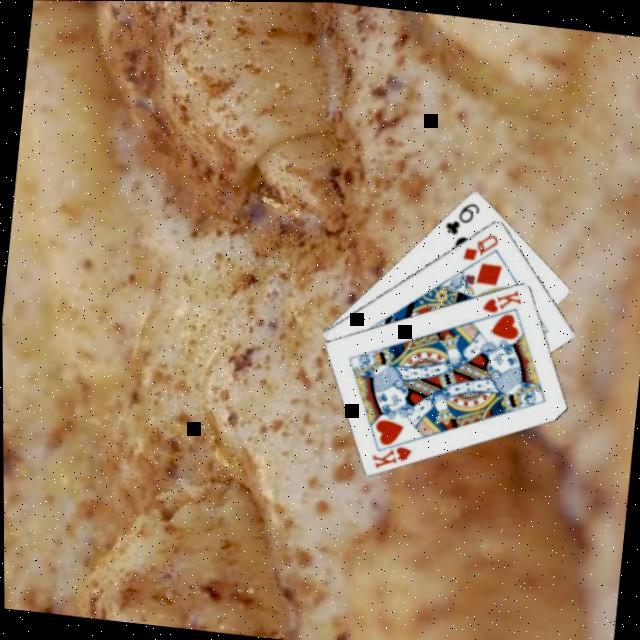6C: (438, 197, 480, 240)
KH: (363, 440, 412, 474), (475, 284, 522, 319)
QD: (456, 228, 499, 266)
